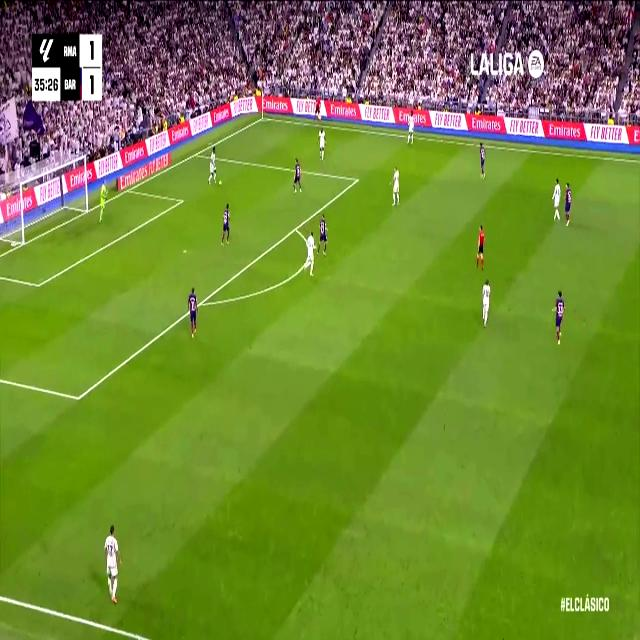bigarea_bottom_inner: (73, 385, 83, 411)
bigarea_top_inner: (354, 172, 359, 186)
bottom_arc_area_intersection: (197, 293, 205, 312)
corner: (258, 112, 266, 122)
smallarea_bottom_inner: (34, 276, 42, 294)
smallarea_top_inner: (178, 195, 184, 205)
top_arc_area_intersection: (292, 220, 299, 235)
